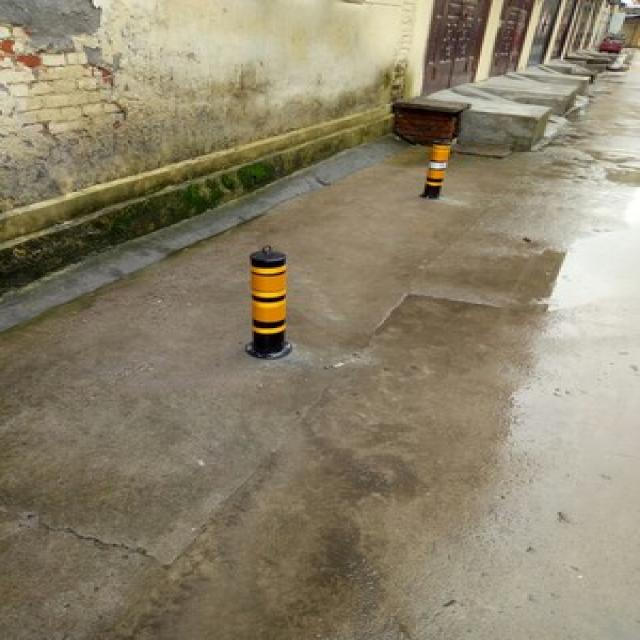warning_column: (243, 242, 292, 355), (416, 134, 450, 197)
